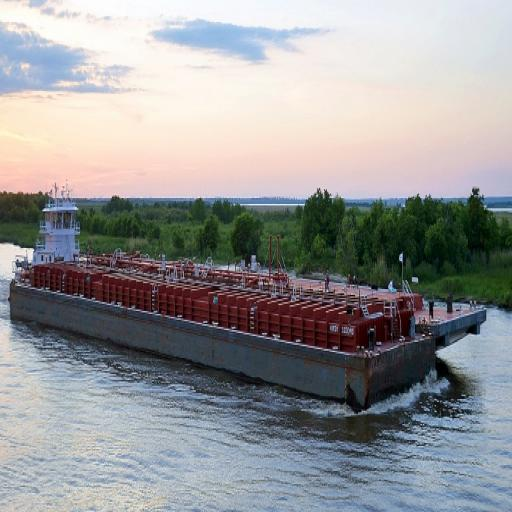tugboat: (8, 192, 88, 330)
